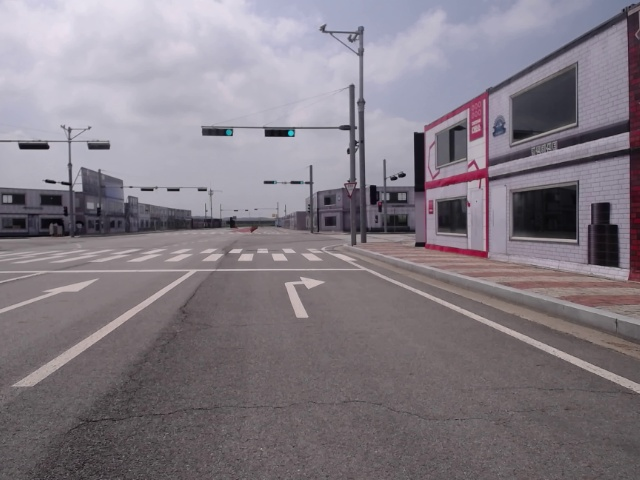straight_green_4: (262, 128, 295, 138), (201, 127, 233, 136), (263, 180, 278, 185), (290, 180, 304, 185)
